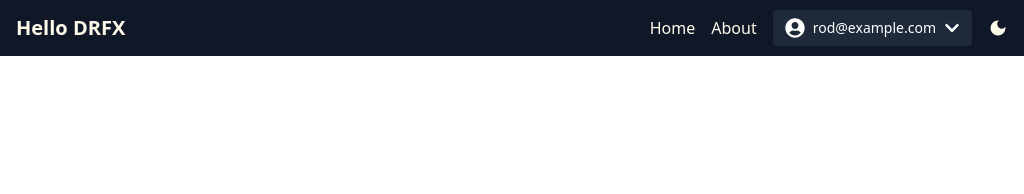
Test: Navbar › displays UserMenu if user is authenticated
Click the button with test id "user-menu-button": point(872, 28) x1=773 y1=10 x2=972 y2=46
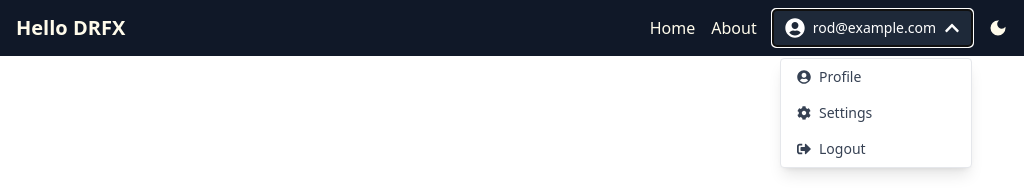
Expected: the button "Logout" is shown, x1=781 y1=131 x2=971 y2=167
Click the button with test id "user-menu-button": point(872, 28) x1=773 y1=10 x2=972 y2=46
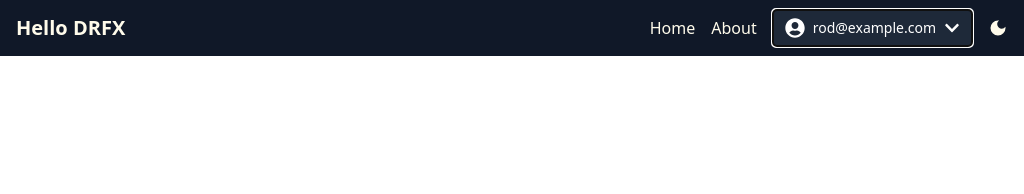
Expected: the button "Logout" is gone
